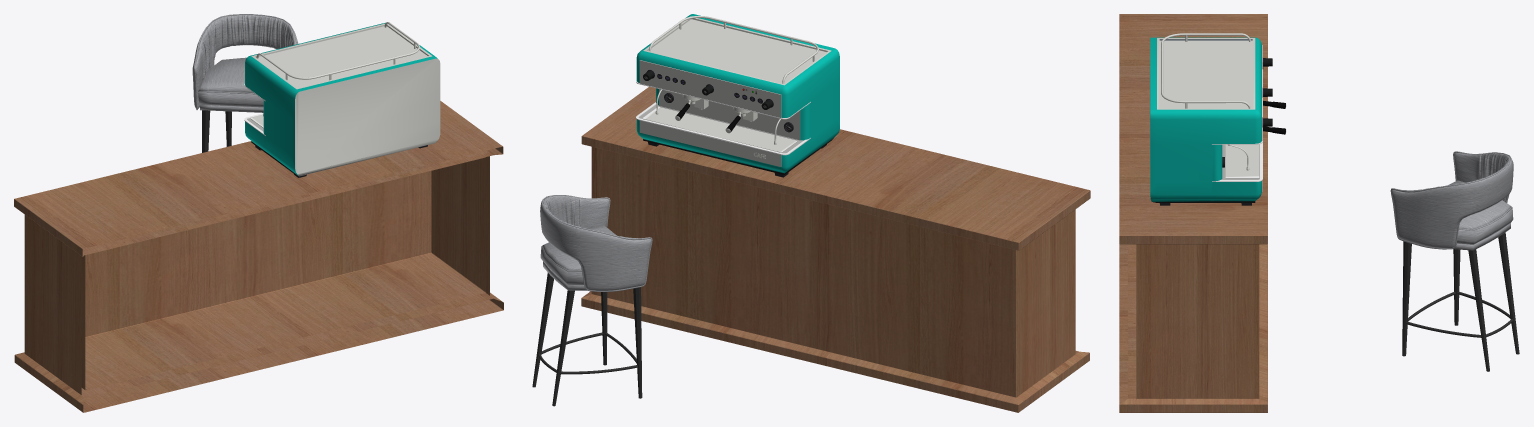
The model's file is coffe setup.fbx.
The picture shows the model from 3 angles, left to right: view 1: azimuth 30°, elevation 25°; view 2: azimuth 150°, elevation 25°; view 3: azimuth 270°, elevation 25°; orthographic projection. The views are drawn at different scales.
Parts seen in each view (by area): view 1: Dresser, polySurface14, Obj3d66-374038-2-811, Obj3d66-374038-5-574, Obj3d66-374038-4-154, Obj3d66-374038-1-988; view 2: Dresser, polySurface14, Obj3d66-374038-1-988, Obj3d66-374038-2-811, Obj3d66-374038-5-574, Obj3d66-374038-4-154, Obj3d66-374038-3-614, Line01; view 3: Dresser, polySurface14, Obj3d66-374038-1-988, Obj3d66-374038-5-574, Obj3d66-374038-3-614, Obj3d66-374038-2-811, Obj3d66-374038-4-154, Line01.
Boxes of the visible parts, <box> form: Dresser: <box>14,101,503,412</box>; polySurface14: <box>244,22,440,177</box>; Obj3d66-374038-2-811: <box>195,15,296,108</box>; Obj3d66-374038-5-574: <box>198,57,263,112</box>; Obj3d66-374038-4-154: <box>202,110,231,152</box>; Obj3d66-374038-1-988: <box>192,14,298,109</box>; Dresser: <box>581,86,1090,412</box>; polySurface14: <box>636,14,839,177</box>; Obj3d66-374038-1-988: <box>540,195,652,291</box>; Obj3d66-374038-2-811: <box>543,195,637,238</box>; Obj3d66-374038-5-574: <box>540,225,616,290</box>; Obj3d66-374038-4-154: <box>552,287,642,406</box>; Obj3d66-374038-3-614: <box>532,272,607,387</box>; Line01: <box>538,332,637,374</box>; Dresser: <box>1119,14,1267,412</box>; polySurface14: <box>1150,33,1263,205</box>; Obj3d66-374038-1-988: <box>1390,151,1513,249</box>; Obj3d66-374038-5-574: <box>1448,180,1513,250</box>; Obj3d66-374038-3-614: <box>1402,241,1489,371</box>; Obj3d66-374038-2-811: <box>1403,152,1510,201</box>; Obj3d66-374038-4-154: <box>1453,232,1519,354</box>; Line01: <box>1406,291,1513,337</box>.
Size of the model in its own units: 220 by 130 by 168.
